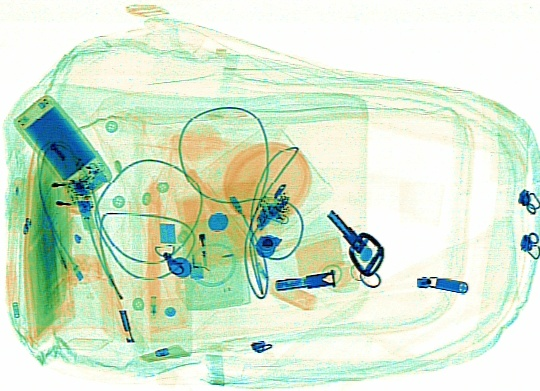lighter: (174, 193, 212, 278)
